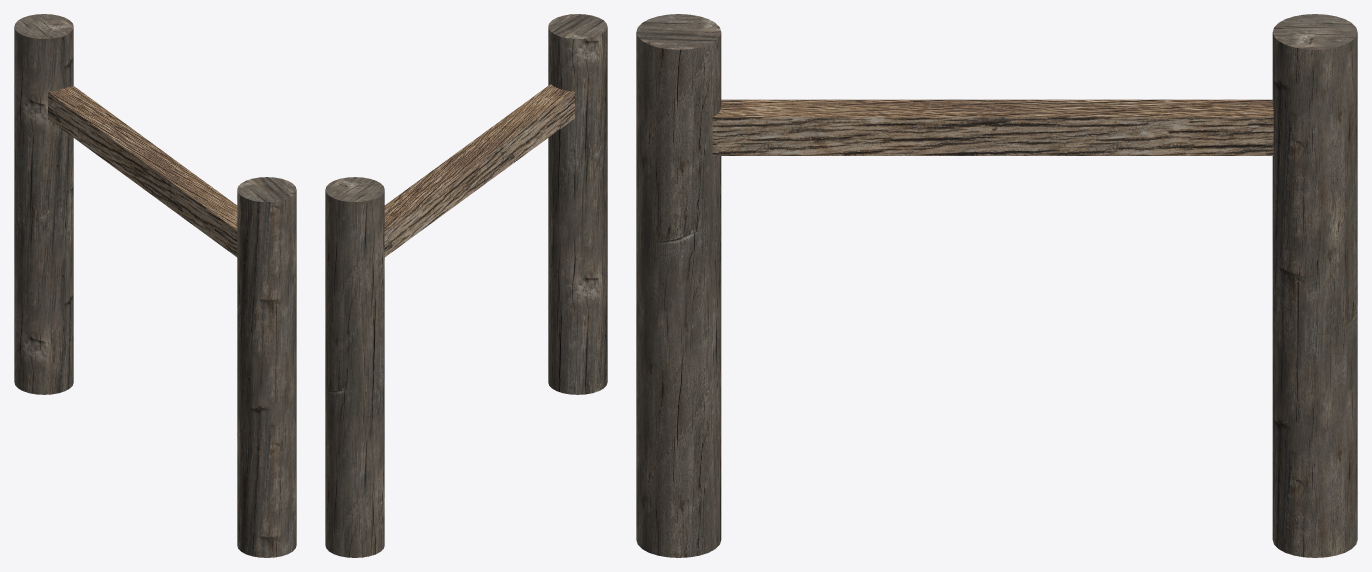
Rendered from vigas.fbx.
3 views of the same model, side by side, from view 1: azimuth 30°, elevation 25°; view 2: azimuth 150°, elevation 25°; view 3: azimuth 270°, elevation 25° (orthographic). The views are drawn at different scales.
Visible parts, largest first — view 1: vigas.002; view 2: vigas.002; view 3: vigas.002.
Part boxes in pixels (left/top/right/bottom): vigas.002: left=14, top=14, right=296, bottom=557; vigas.002: left=325, top=14, right=607, bottom=557; vigas.002: left=636, top=14, right=1357, bottom=557.
Size of the model in its own units: 60 by 396 by 510.
3 materials, 3 textured.
